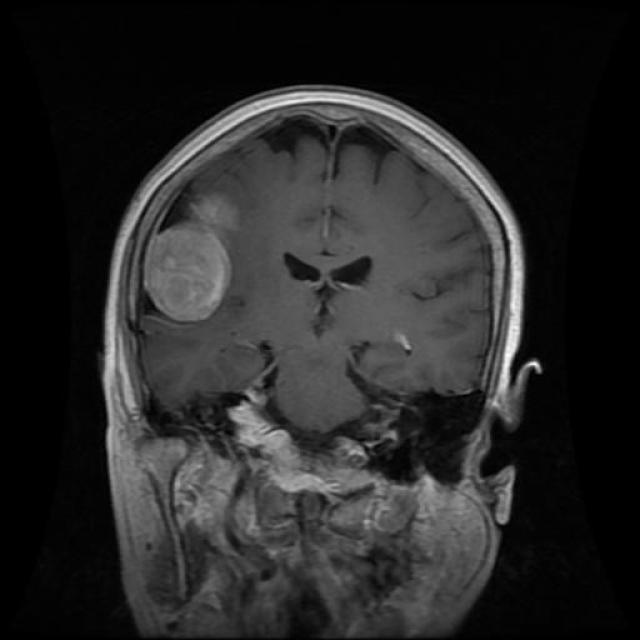meningioma: (144, 225, 230, 325)
